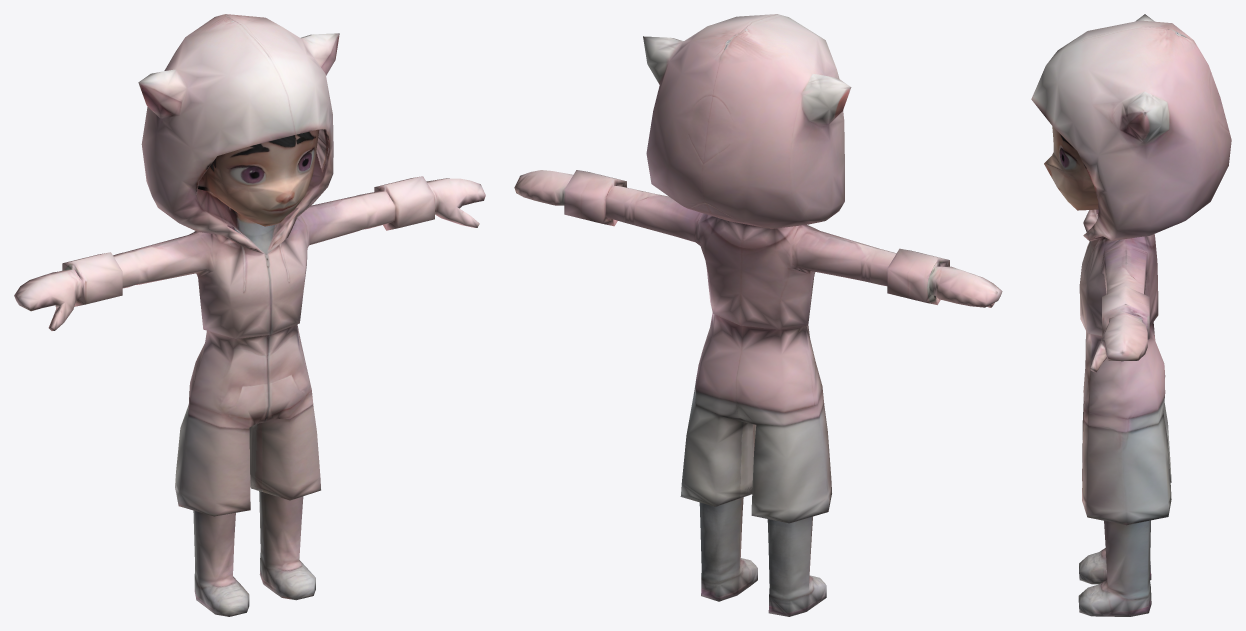
The model's file is boy_texture.obj.
3 views of the same model, side by side, from view 1: azimuth 30°, elevation 25°; view 2: azimuth 150°, elevation 25°; view 3: azimuth 270°, elevation 25° (orthographic). The views are drawn at different scales.
Parts seen in each view (by area): view 1: boy_texture; view 2: boy_texture; view 3: boy_texture.
Part boxes in pixels (left/top/right/bottom): boy_texture: left=14, top=14, right=485, bottom=616; boy_texture: left=514, top=14, right=1002, bottom=616; boy_texture: left=1031, top=14, right=1231, bottom=616.
Bounding box in the file's own units: 1.72 × 2 × 0.6425.
Materials: 1 (1 with a texture image).
